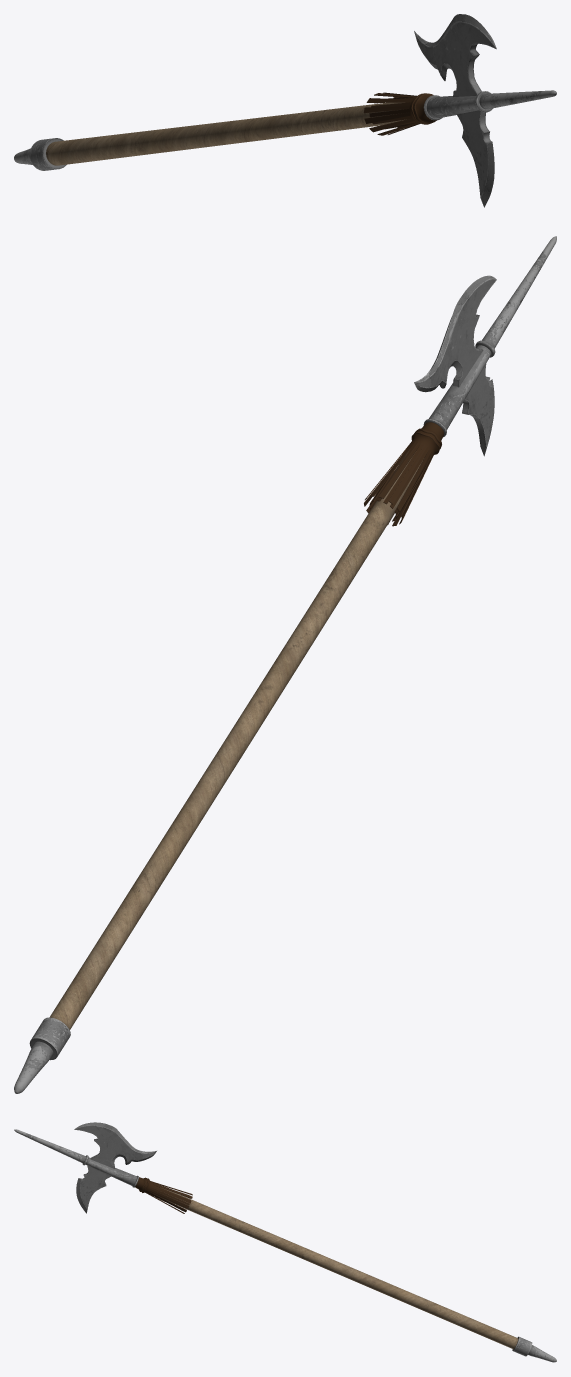
Rendered from whpike.glb.
3 views of the same model, one above another, from view 1: azimuth 30°, elevation 25°; view 2: azimuth 150°, elevation 25°; view 3: azimuth 270°, elevation 25° (orthographic). The views are drawn at different scales.
Parts seen in each view (by area): view 1: Pike; view 2: Pike; view 3: Pike.
Boxes of the visible parts, x1,y1,x2,y2 form: Pike: (14,14,556,207); Pike: (14,236,556,1093); Pike: (14,1122,556,1362).
Bounding box in the file's own units: 0.00121 × 0.0146 × 0.03.
Materials: 1 (1 with a texture image).
